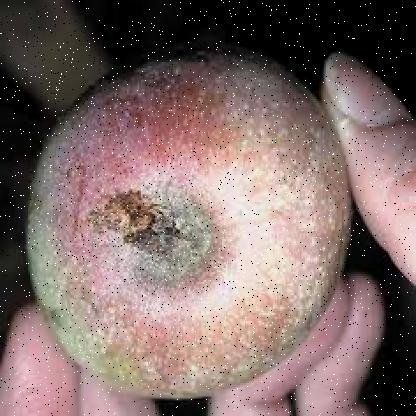damaged_apple: (26, 44, 372, 390)
